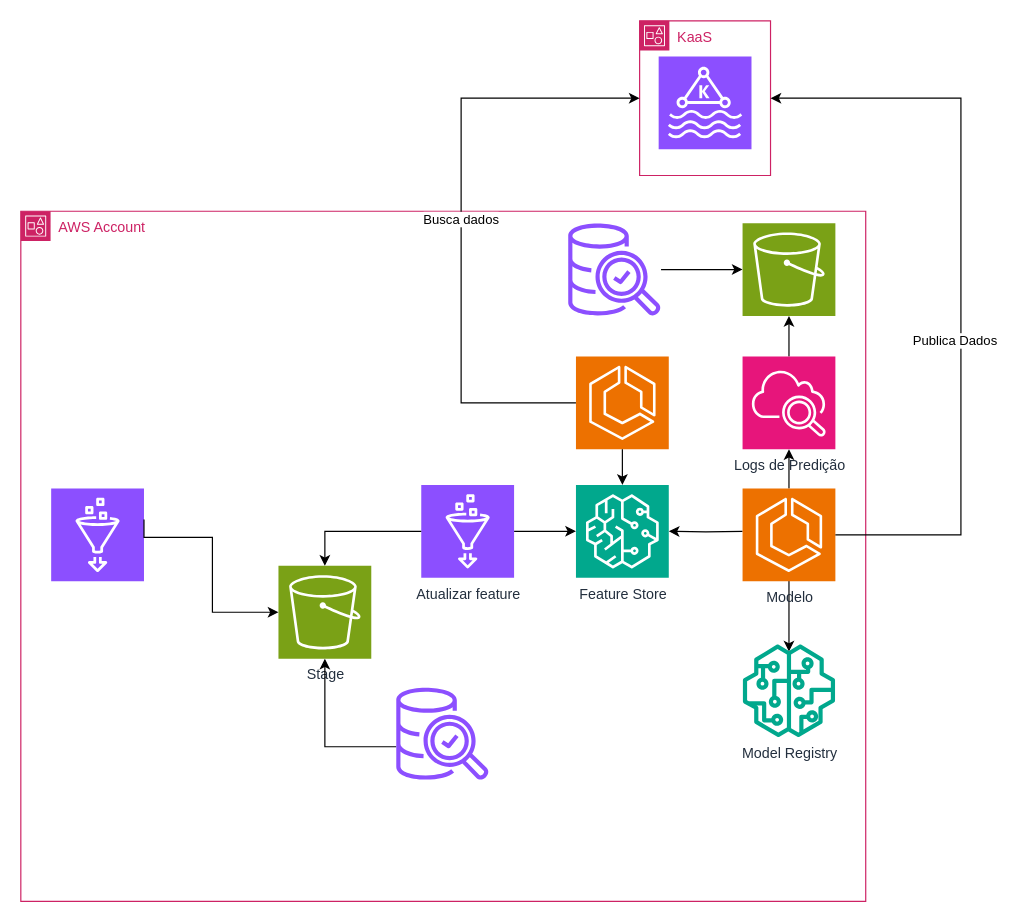
Image size: 1017x922. Some labels were removed from this diagram. Each missing label, with the centre of its shape:
Atualiza feature: point (622, 402)
Data Quality (Concept Drift): point (614, 269)
Data Quality (Data Drift): point (442, 733)
DataPrep: point (97, 534)
